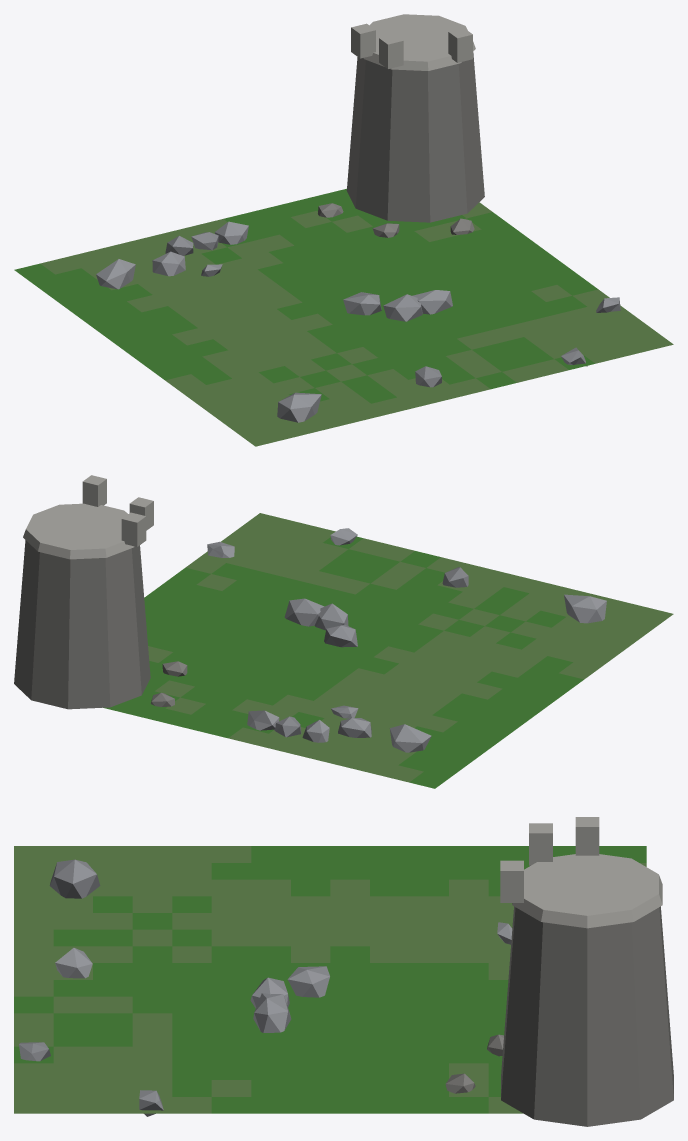
File: chunk_6_2.glb
3 renders of one model, top to bottom at view 1: azimuth 30°, elevation 25°; view 2: azimuth 150°, elevation 25°; view 3: azimuth 270°, elevation 25°, orthographic. The views are drawn at different scales.
Parts seen in each view (by area): view 1: chunk_6_2; view 2: chunk_6_2; view 3: chunk_6_2.
Part boxes in pixels (bbox=[...]): chunk_6_2: bbox=[14, 14, 673, 446]; chunk_6_2: bbox=[14, 475, 673, 788]; chunk_6_2: bbox=[14, 817, 673, 1126].
Bounding box in the file's own units: 16.8 × 6.95 × 16.69.
